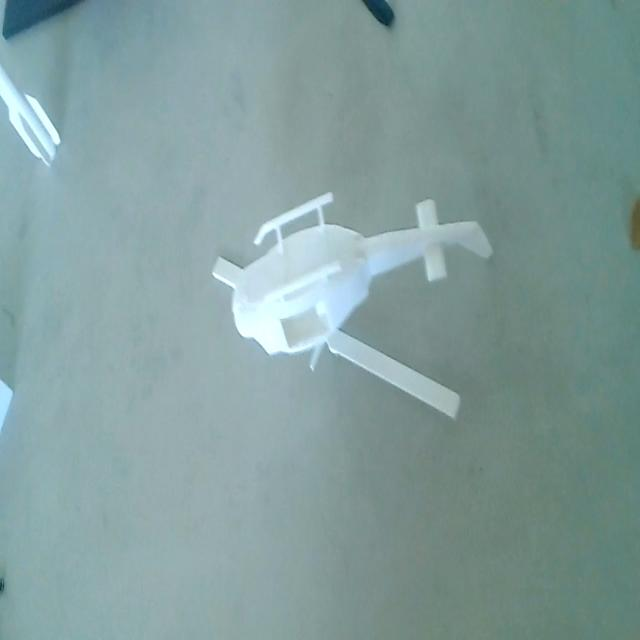Helicopter: (200, 185, 494, 426)
Rocket: (0, 56, 60, 175)
